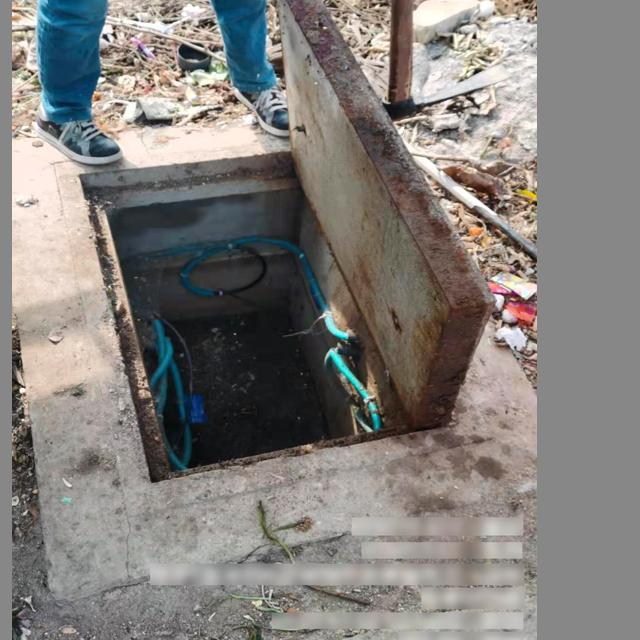uncovered: (72, 0, 485, 477)
